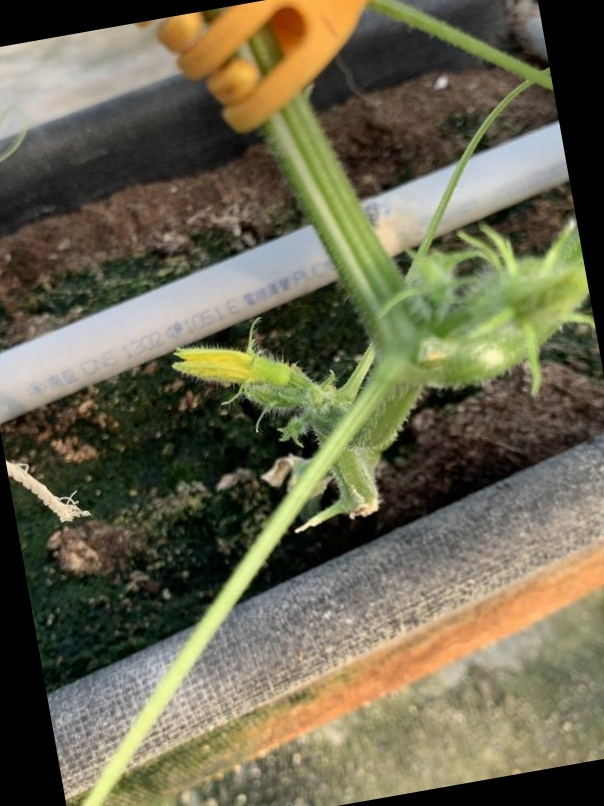bud: (171, 341, 306, 405)
